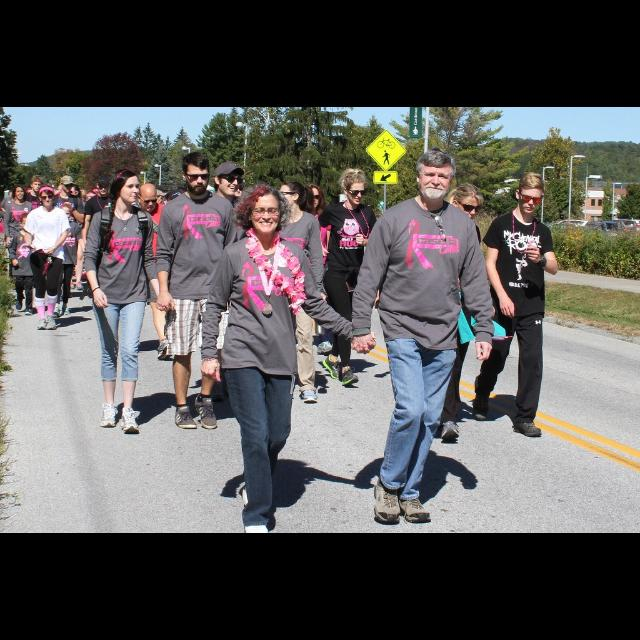head: (193, 180, 239, 310), (414, 154, 456, 202), (247, 184, 283, 236), (451, 183, 481, 227), (182, 152, 212, 195), (516, 174, 544, 216), (110, 170, 142, 204), (214, 166, 242, 197), (278, 181, 306, 209), (344, 176, 366, 207), (138, 183, 158, 213), (305, 184, 323, 210), (38, 185, 56, 207), (60, 202, 74, 222), (19, 213, 35, 230), (30, 176, 44, 192), (62, 176, 74, 194), (98, 179, 110, 197), (14, 186, 26, 200), (8, 190, 16, 200)
person: (350, 146, 498, 526), (154, 150, 250, 434), (463, 172, 561, 442), (81, 168, 169, 438), (411, 182, 497, 444), (172, 160, 262, 408), (242, 180, 331, 406), (313, 168, 383, 392), (128, 182, 176, 362), (22, 184, 72, 332), (292, 182, 336, 336), (40, 200, 91, 322), (193, 180, 239, 310), (79, 174, 125, 302), (41, 175, 87, 302), (5, 211, 43, 317), (0, 185, 38, 288), (20, 174, 50, 266), (0, 189, 20, 243)
